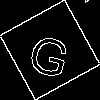G: (25, 25, 76, 80)
